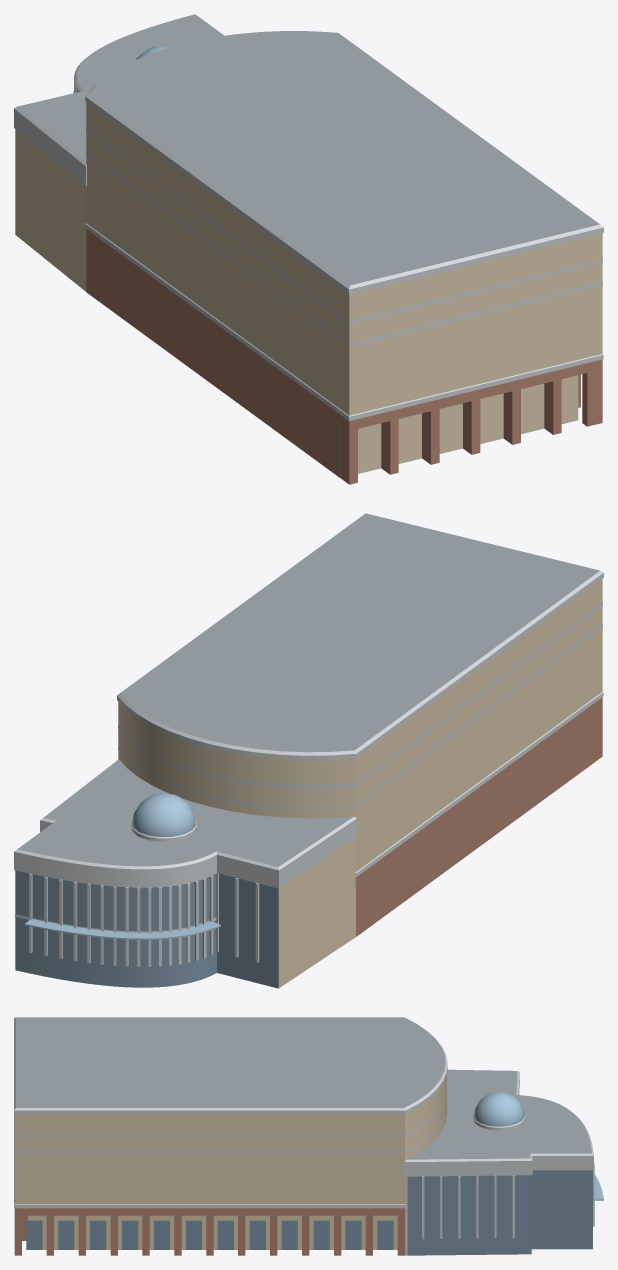
The model's file is belk-theater.glb.
3 views of the same model, one above another, from view 1: azimuth 30°, elevation 25°; view 2: azimuth 150°, elevation 25°; view 3: azimuth 270°, elevation 25° (orthographic). The views are drawn at different scales.
Visible parts, largest first — view 1: Belk Theater; view 2: Belk Theater; view 3: Belk Theater.
Part boxes in pixels (<box>): Belk Theater: <box>14,14,603,484</box>; Belk Theater: <box>14,513,603,988</box>; Belk Theater: <box>14,1017,603,1255</box>.
Bounding box in the file's own units: 41.88 × 31 × 113.
